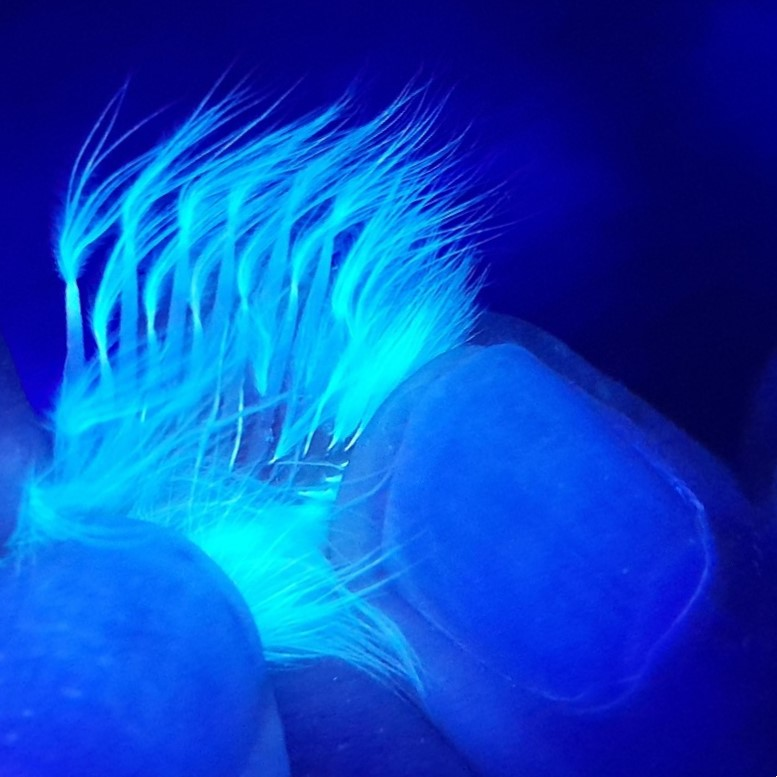female: (55, 190, 387, 533)
